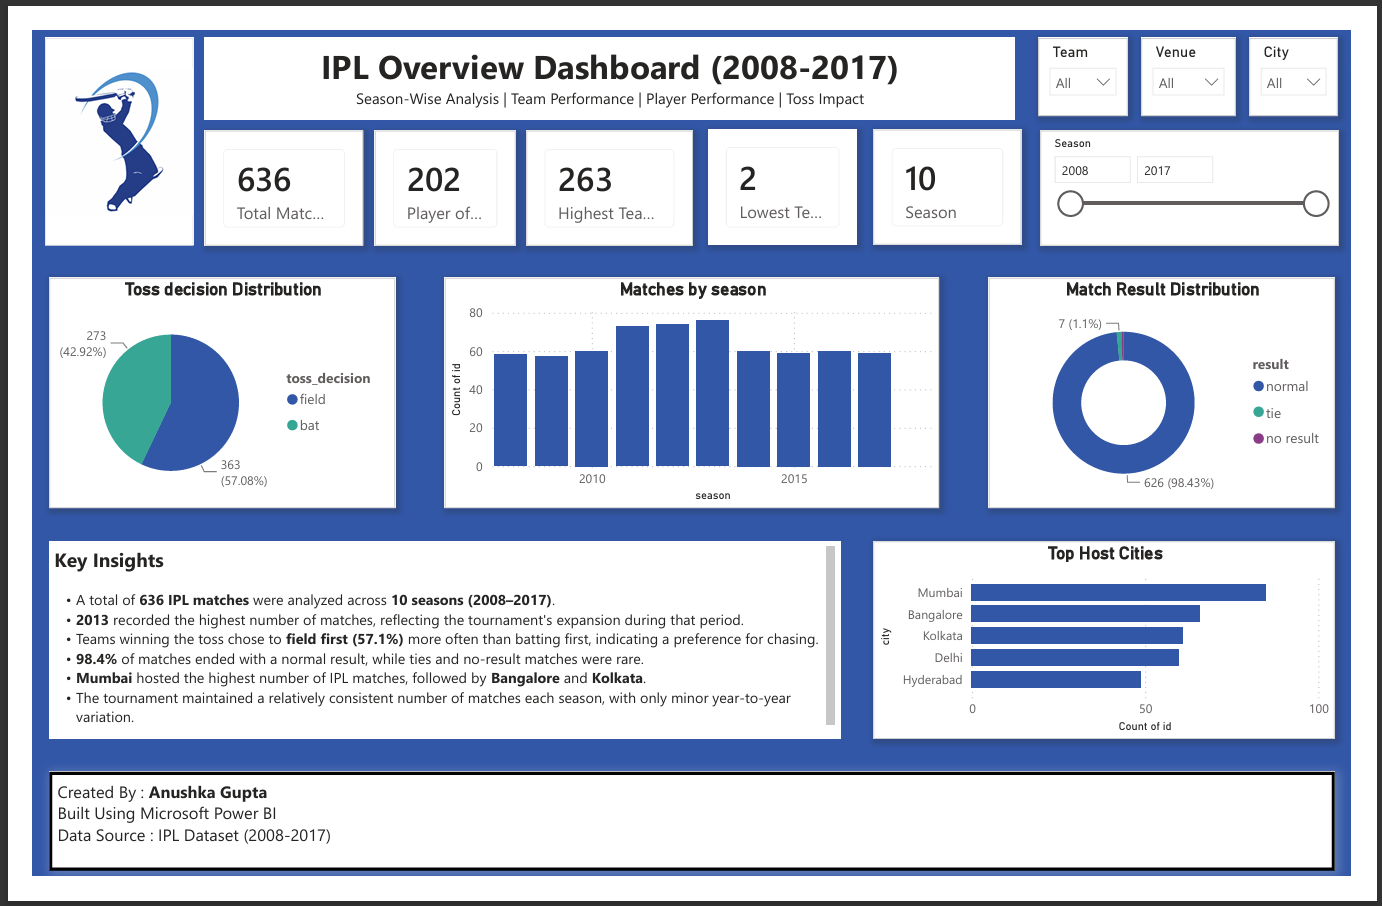

Layout of this report page (visuals, bound fields, positions):
{"tool":"powerbi","page":{"name":"Overview","canvas":[1280,821],"ordinal":1},"visuals":[{"type":"textbox","box":[167.1,7.1,786.9,79.4],"z":0},{"type":"cardVisual","fields":{"Data":["CountNonNull(Matches.id)"]},"box":[167.1,97.2,154.1,111.4],"z":1000},{"type":"cardVisual","fields":{"Data":["Deliveries.Highest Team Score"]},"box":[479.4,97.2,161.2,111.4],"z":2000},{"type":"cardVisual","fields":{"Data":["Count(Matches.player_of_match)"]},"box":[331.5,97.2,137.5,111.4],"z":3000},{"type":"cardVisual","fields":{"Data":["Count(Matches.season)"]},"box":[816,96,144,112],"z":4000},{"type":"cardVisual","fields":{"Data":["Deliveries.Lowest Team Score"]},"box":[656,96,144,112],"z":5000},{"type":"clusteredColumnChart","title":"Matches by season","fields":{"Category":["Matches.season"],"Y":["CountNonNull(Matches.id)"]},"box":[400,240,480,224],"z":6000},{"type":"pieChart","title":"Toss decision Distribution","fields":{"Category":["Matches.toss_decision"],"Y":["CountNonNull(Matches.id)"]},"box":[16,240,336,224],"z":7000},{"type":"donutChart","title":"Match Result Distribution","fields":{"Category":["Matches.result"],"Y":["CountNonNull(Matches.id)"]},"box":[928,240,336,224],"z":8000},{"type":"slicer","fields":{"Values":["Matches.season"]},"box":[977.7,97.2,290.3,111.4],"z":9000},{"type":"slicer","fields":{"Values":["Matches.venue"]},"box":[1076,7.1,92.4,75.8],"z":10000},{"type":"slicer","fields":{"Values":["Matches.city"]},"box":[1181.5,7.1,85.3,75.8],"z":11000},{"type":"slicer","fields":{"Values":["Matches.winner"]},"box":[976.5,7.1,86.5,75.8],"z":12000},{"type":"textbox","box":[16,720,1248,96],"z":13000},{"type":"image","box":[11.9,7.1,144.6,201.5],"z":14000},{"type":"textbox","box":[16,496,768,192],"z":15000},{"type":"clusteredBarChart","title":" Top Host Cities","fields":{"Category":["Matches.city"],"Y":["CountNonNull(Matches.id)"]},"box":[816,496,448,192],"z":16000}]}

Visuals, with their boxes in screenshot pixels (x1, y1, x2, y2), scaled from the page's 1280x821 canvas onto the 1382x906 screenshot:
textbox: x1=180 y1=8 x2=1030 y2=95
cardVisual - CountNonNull(Matches.id): x1=180 y1=107 x2=347 y2=230
cardVisual - Deliveries.Highest Team Score: x1=518 y1=107 x2=692 y2=230
cardVisual - Count(Matches.player_of_match): x1=358 y1=107 x2=506 y2=230
cardVisual - Count(Matches.season): x1=881 y1=106 x2=1036 y2=230
cardVisual - Deliveries.Lowest Team Score: x1=708 y1=106 x2=864 y2=230
"Matches by season" clusteredColumnChart: x1=432 y1=265 x2=950 y2=512
"Toss decision Distribution" pieChart: x1=17 y1=265 x2=380 y2=512
"Match Result Distribution" donutChart: x1=1002 y1=265 x2=1365 y2=512
slicer - Matches.season: x1=1056 y1=107 x2=1369 y2=230
slicer - Matches.venue: x1=1162 y1=8 x2=1262 y2=91
slicer - Matches.city: x1=1276 y1=8 x2=1368 y2=91
slicer - Matches.winner: x1=1054 y1=8 x2=1148 y2=91
textbox: x1=17 y1=795 x2=1365 y2=900
image: x1=13 y1=8 x2=169 y2=230
textbox: x1=17 y1=547 x2=846 y2=759
" Top Host Cities" clusteredBarChart: x1=881 y1=547 x2=1365 y2=759
